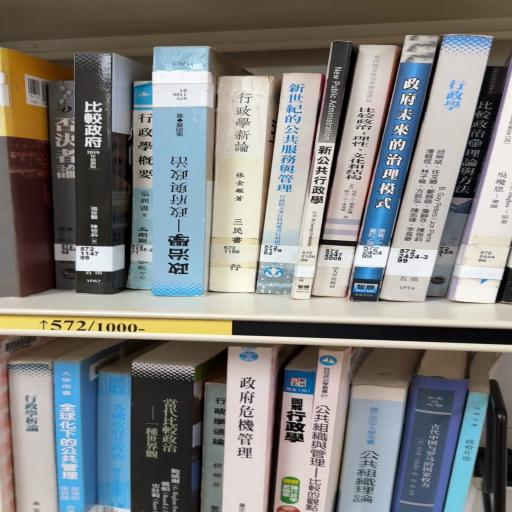book: (382, 35, 492, 303), (298, 46, 402, 298), (349, 37, 440, 303), (75, 54, 151, 295), (211, 77, 282, 294), (211, 77, 281, 294), (257, 74, 325, 295)
reverse: (153, 47, 252, 297)
